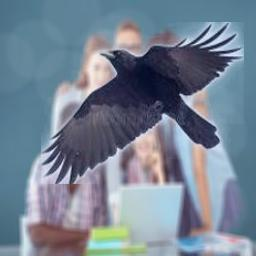Crow: (41, 22, 244, 184)
